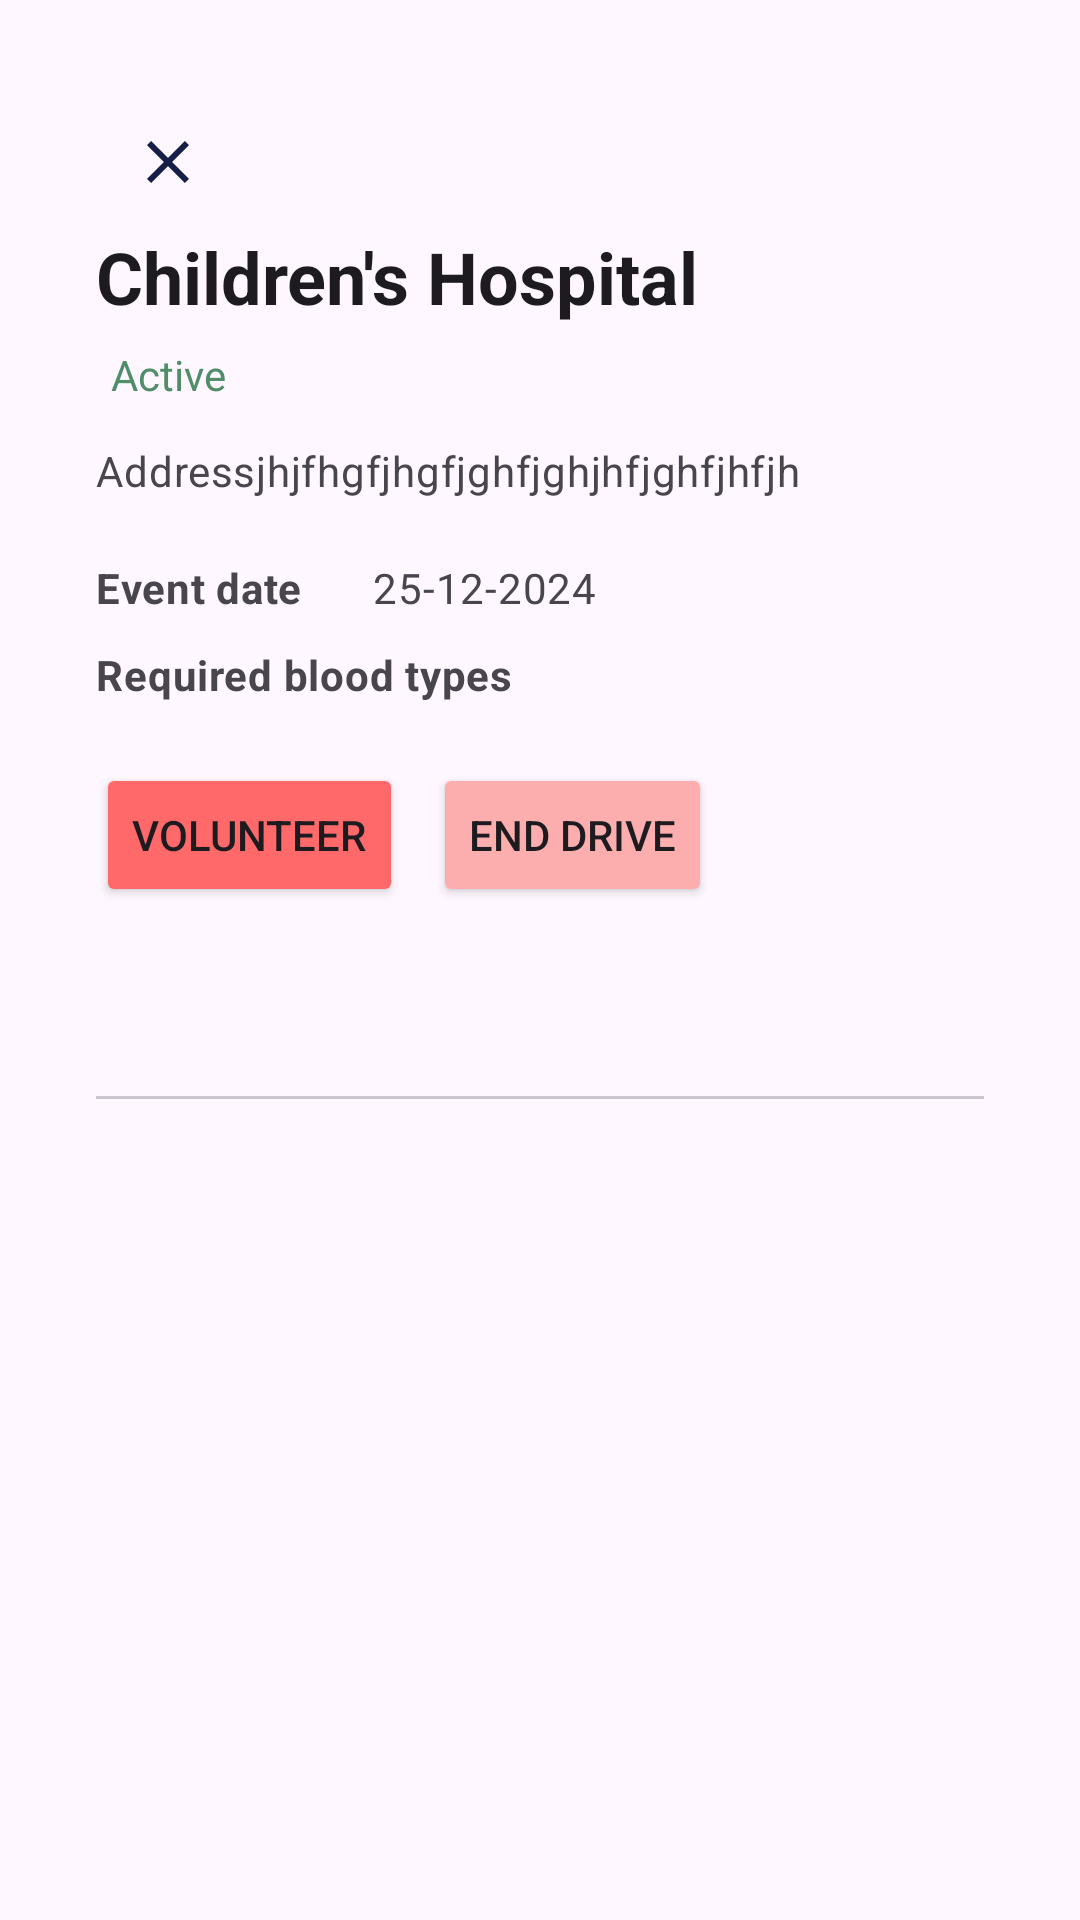

Icon bounding boxes for this 1080×1920 phone screenshot, format [x1, y1, x2, y2]:
Close: [147, 141, 189, 183]
